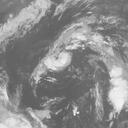cyclone: (43, 38, 74, 72)
